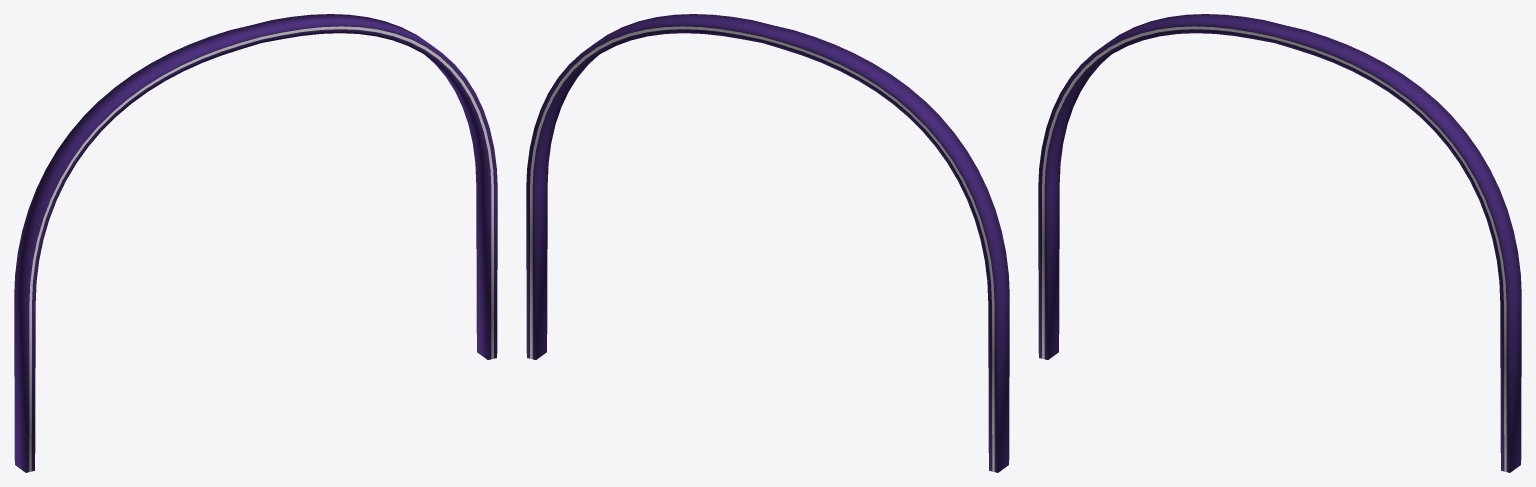
The model's file is StreetArc_001.fbx.
3 views of the same model, side by side, from view 1: azimuth 30°, elevation 25°; view 2: azimuth 150°, elevation 25°; view 3: azimuth 330°, elevation 25° (orthographic).
Parts seen in each view (by area): view 1: StreetArc_001; view 2: StreetArc_001; view 3: StreetArc_001.
Part boxes in pixels (x1,y1,x2,y2): StreetArc_001: (14, 14, 497, 472); StreetArc_001: (526, 14, 1009, 472); StreetArc_001: (1038, 14, 1521, 472).
Size of the model in its own units: 1719 by 1329 by 72.84.
